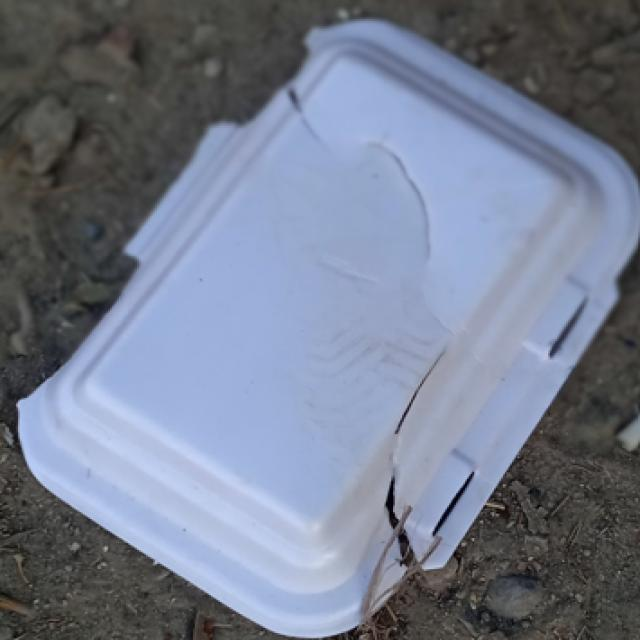electronic: (13, 16, 638, 638)
